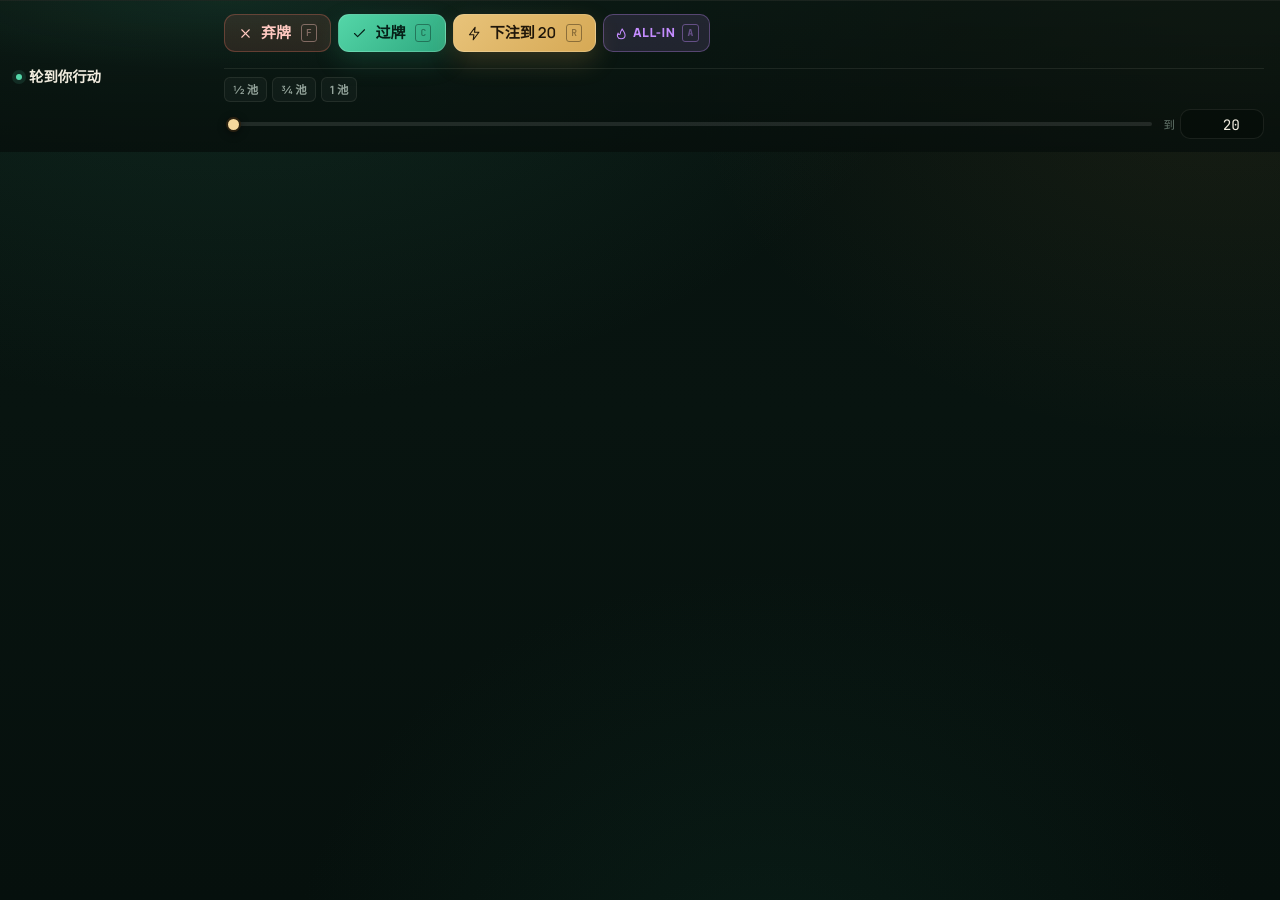
ActionBar raise type › keeps the typed raise amount visible until blur clamps it
The image size is (1280, 900).
Replace the text in the number field with "5": (1222, 124) [1180,109,1264,139]
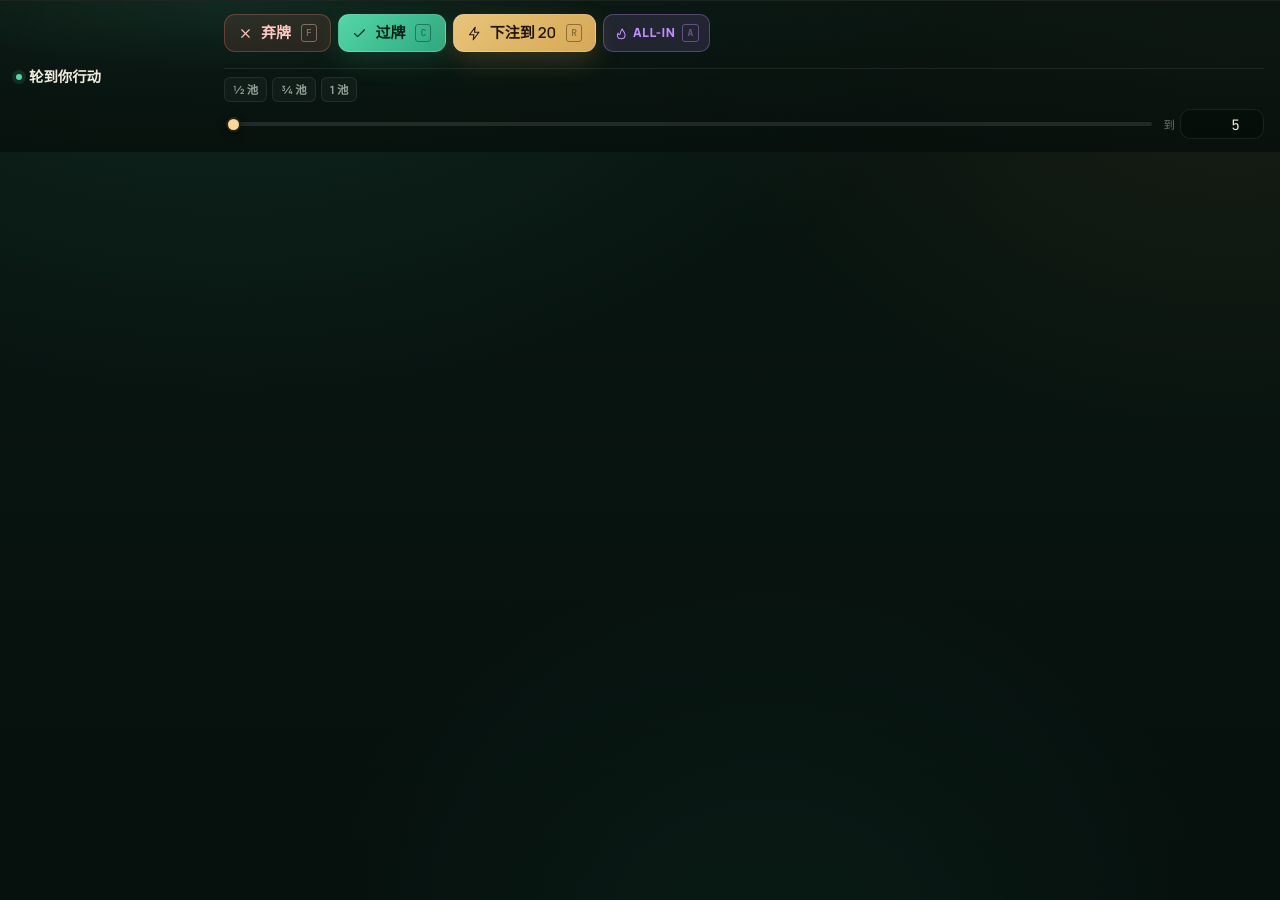
Leave the number field, box [1180,109,1264,139]
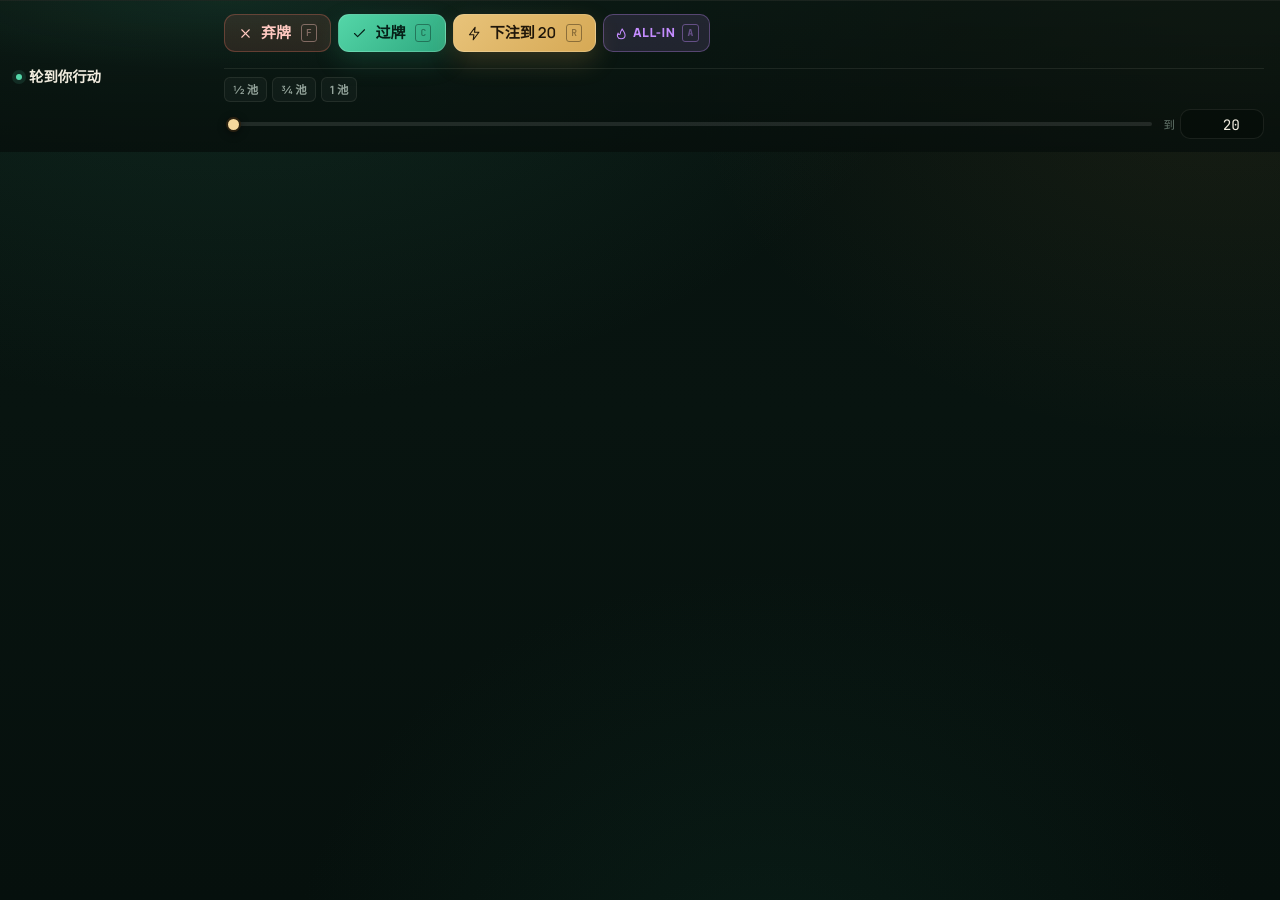
Check: the number field holds "20", box [1180,109,1264,139]
